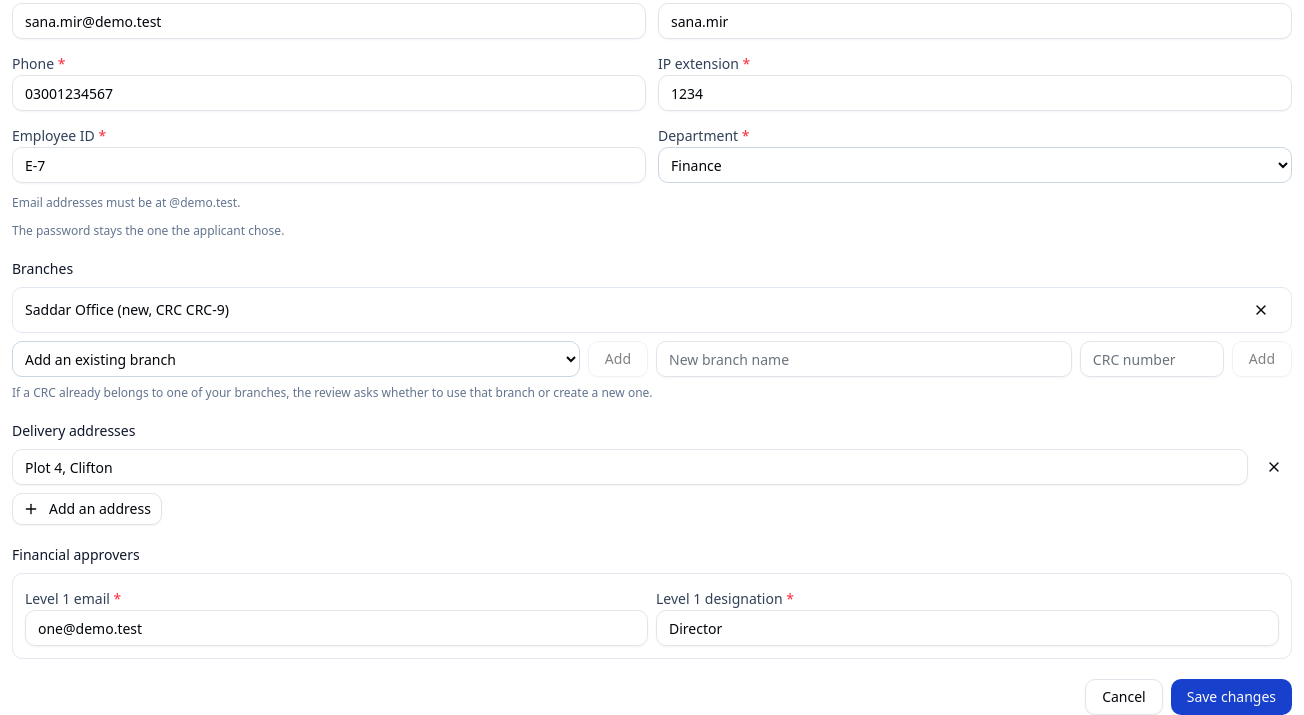
Test: DepartmentJoinEditForm › shows the server's refusal and stays open
(page scrolled)
Click the button "Save changes": (1231, 697) [1171,679,1292,714]
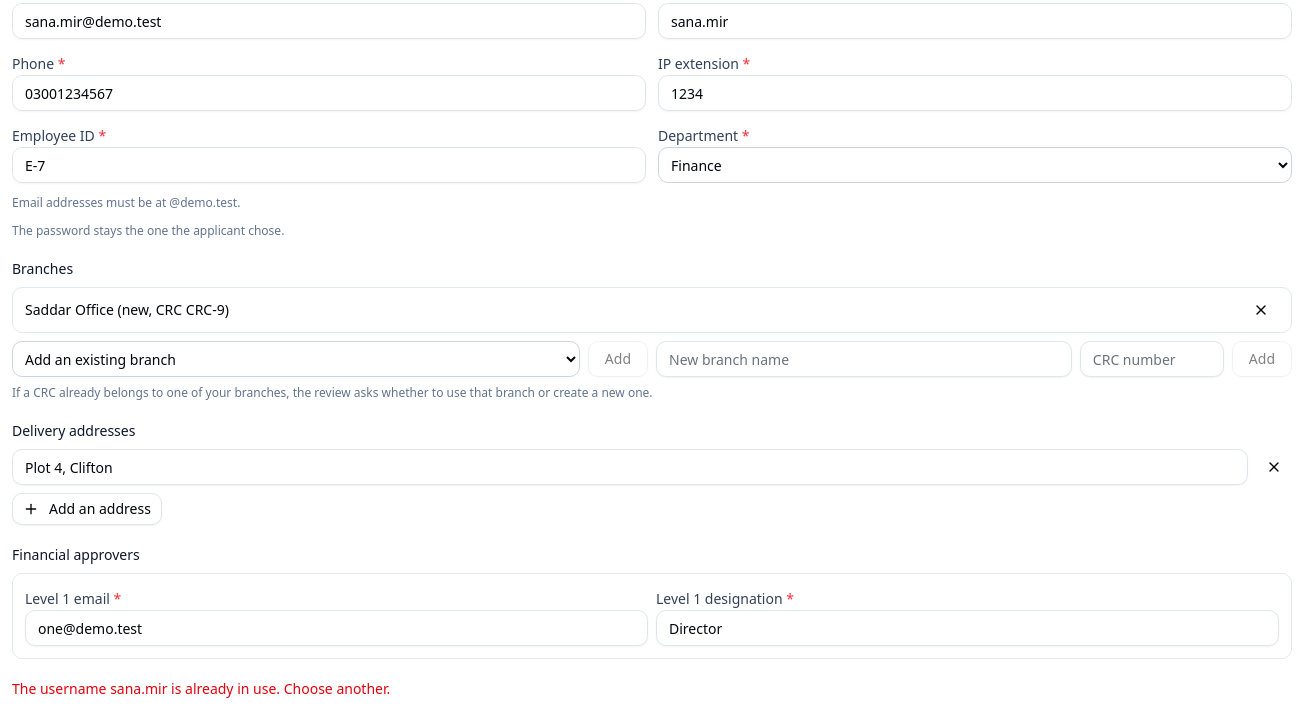
Result: the message reads "The username sana.mir is already in use. Choose another." at [12,679,390,698]
